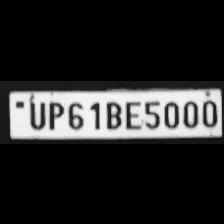0: (160, 96, 180, 128), (180, 96, 200, 128), (198, 96, 218, 127)
1: (86, 98, 102, 130)
5: (140, 97, 160, 129)
6: (64, 98, 84, 130)
B: (102, 97, 122, 128)
E: (124, 97, 140, 128)
P: (44, 98, 64, 130)
U: (24, 97, 46, 128)
